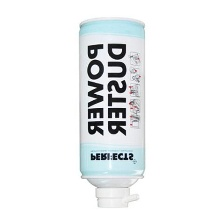aerosol_cans: (73, 14, 149, 215)
